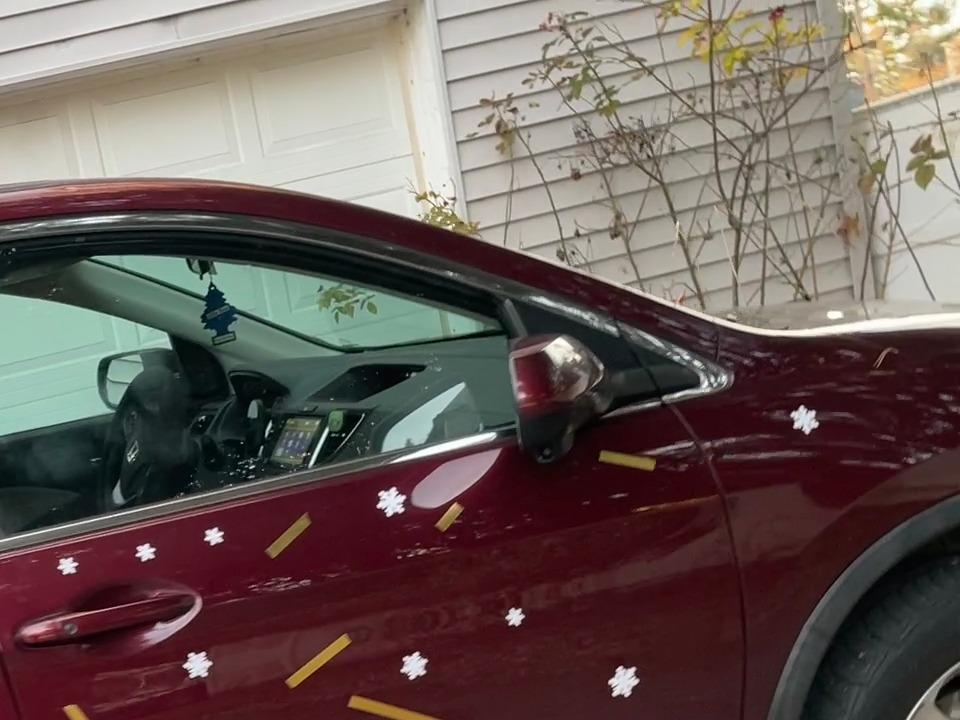dent: (604, 664, 645, 703), (181, 645, 219, 685), (787, 400, 824, 439), (374, 484, 411, 520), (397, 647, 431, 683), (130, 535, 160, 565), (54, 551, 84, 579), (197, 524, 229, 548), (501, 604, 528, 629)
scratch: (281, 626, 355, 692), (344, 690, 476, 720), (261, 510, 319, 562), (590, 440, 664, 480), (59, 695, 135, 720), (431, 496, 466, 535)
